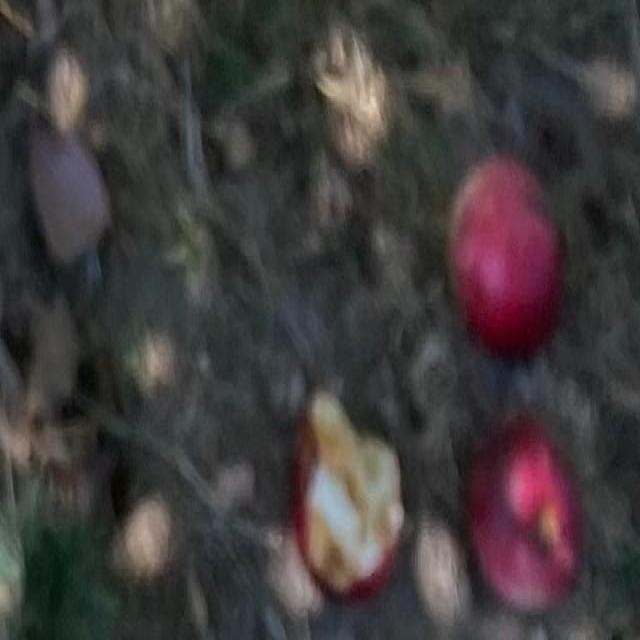Rotten Apple: (447, 162, 565, 356), (465, 418, 579, 612)
